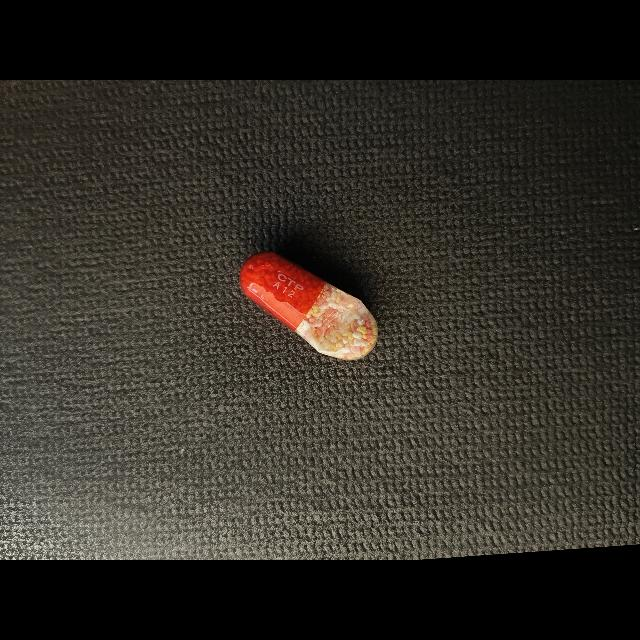Defective Capsule: (240, 252, 378, 361)
